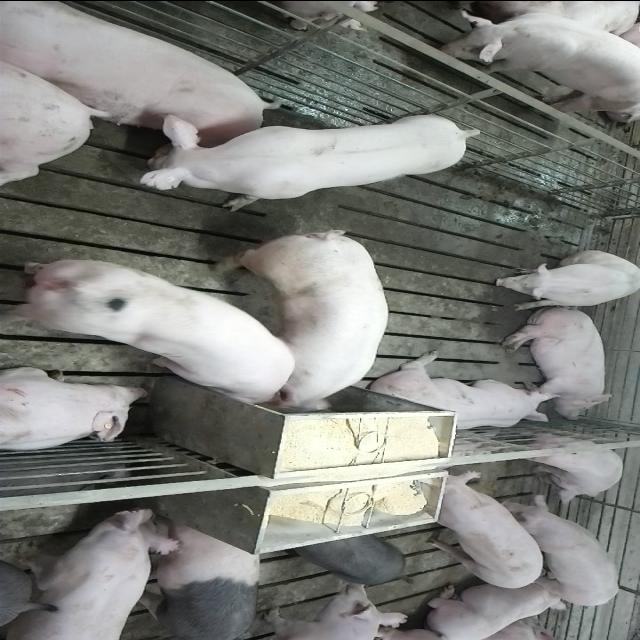Feeding: (8, 256, 302, 408), (203, 225, 391, 412)
Lateral_lying: (500, 304, 618, 418)
Sitting: (491, 250, 640, 310)
Standing: (128, 111, 486, 211), (2, 504, 184, 638), (427, 1, 640, 115), (111, 515, 261, 638), (417, 470, 547, 590), (494, 494, 619, 608), (262, 585, 414, 640), (511, 436, 625, 504), (294, 533, 406, 585)
Sternal_lying: (0, 4, 277, 152), (365, 352, 557, 432), (0, 368, 150, 453), (421, 581, 568, 638)
